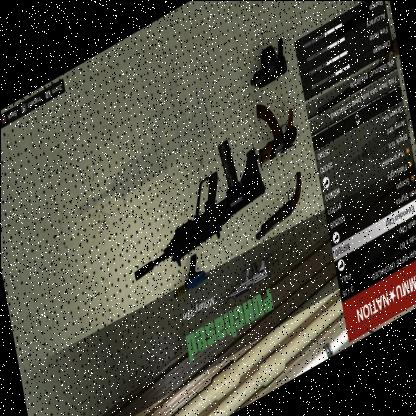rifle: (120, 118, 272, 286)
